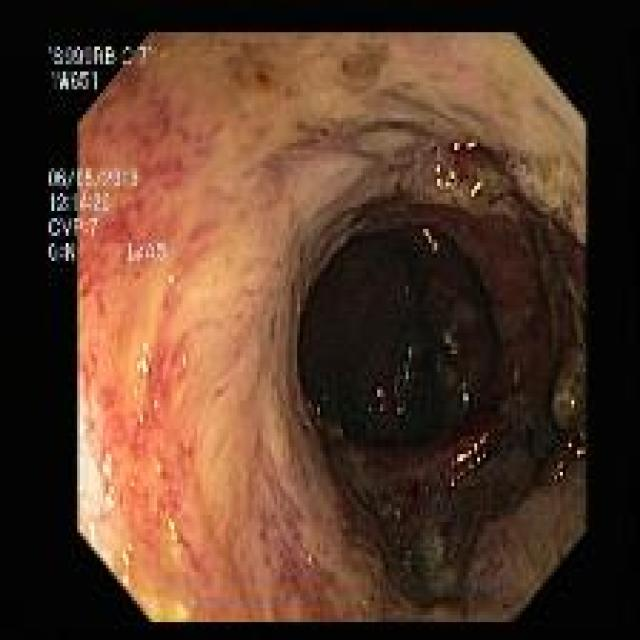ulcerative-colitis: (51, 33, 586, 621)
